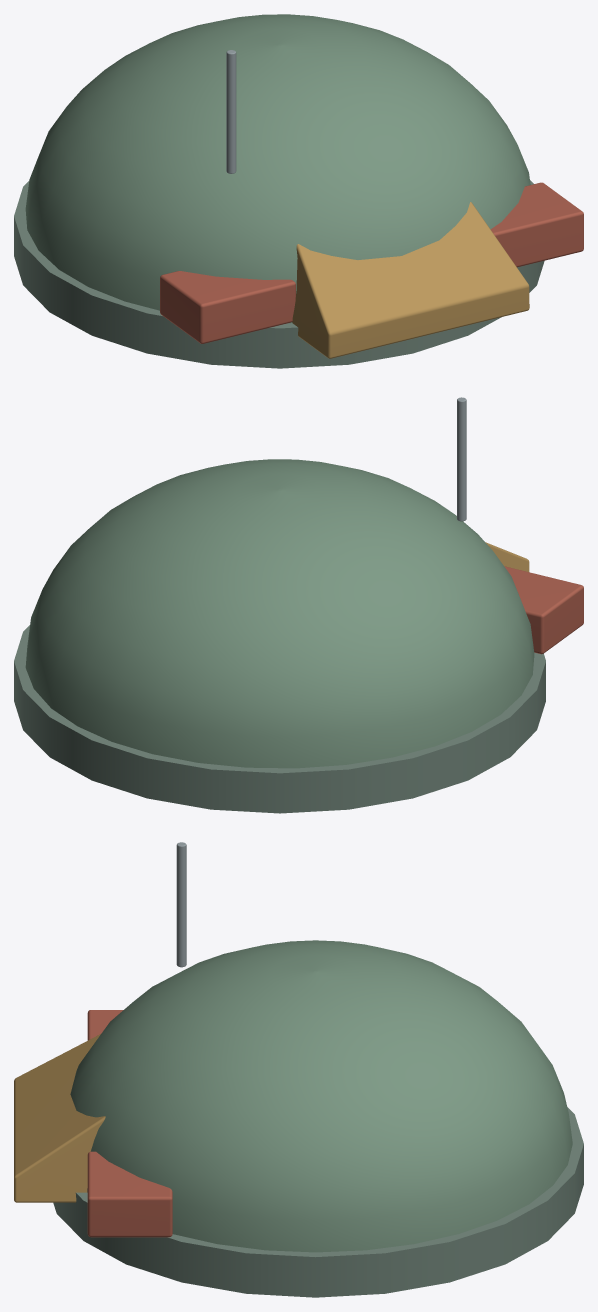
3 renders of one model, top to bottom at view 1: azimuth 30°, elevation 25°; view 2: azimuth 150°, elevation 25°; view 3: azimuth 270°, elevation 25°, orthographic.
Parts seen in each view (by area): view 1: Pleasure glazed canopy, Pleasure dome front entrance, Foundation drum, Pleasure dome entrance wing, Pleasure dome entrance wing.001, Aerial stem; view 2: Pleasure glazed canopy, Foundation drum, Pleasure dome entrance wing, Aerial stem, Pleasure dome front entrance; view 3: Pleasure glazed canopy, Foundation drum, Pleasure dome front entrance, Pleasure dome entrance wing.001, Aerial stem, Pleasure dome entrance wing.
Part boxes in pixels (bbox=[...]): Pleasure glazed canopy: bbox=[25, 14, 530, 323]; Pleasure dome front entrance: bbox=[292, 202, 529, 358]; Foundation drum: bbox=[14, 180, 544, 368]; Pleasure dome entrance wing: bbox=[160, 271, 295, 343]; Pleasure dome entrance wing.001: bbox=[490, 182, 583, 267]; Aerial stem: bbox=[226, 50, 236, 173]; Pleasure glazed canopy: bbox=[25, 459, 534, 768]; Foundation drum: bbox=[14, 625, 545, 813]; Pleasure dome entrance wing: bbox=[504, 566, 583, 654]; Aerial stem: bbox=[457, 397, 466, 521]; Pleasure dome front entrance: bbox=[485, 542, 529, 571]; Pleasure glazed canopy: bbox=[70, 940, 572, 1252]; Foundation drum: bbox=[53, 1107, 583, 1297]; Pleasure dome front entrance: bbox=[14, 1034, 105, 1202]; Pleasure dome entrance wing.001: bbox=[87, 1151, 172, 1237]; Aerial stem: bbox=[176, 842, 186, 967]; Pleasure dome entrance wing: bbox=[87, 1010, 123, 1040].
Size of the model in its own units: 2.4 by 1.4 by 2.55.
